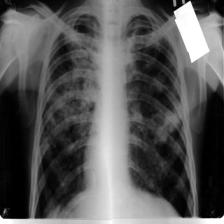tuberculosis: (32, 6, 198, 219)
